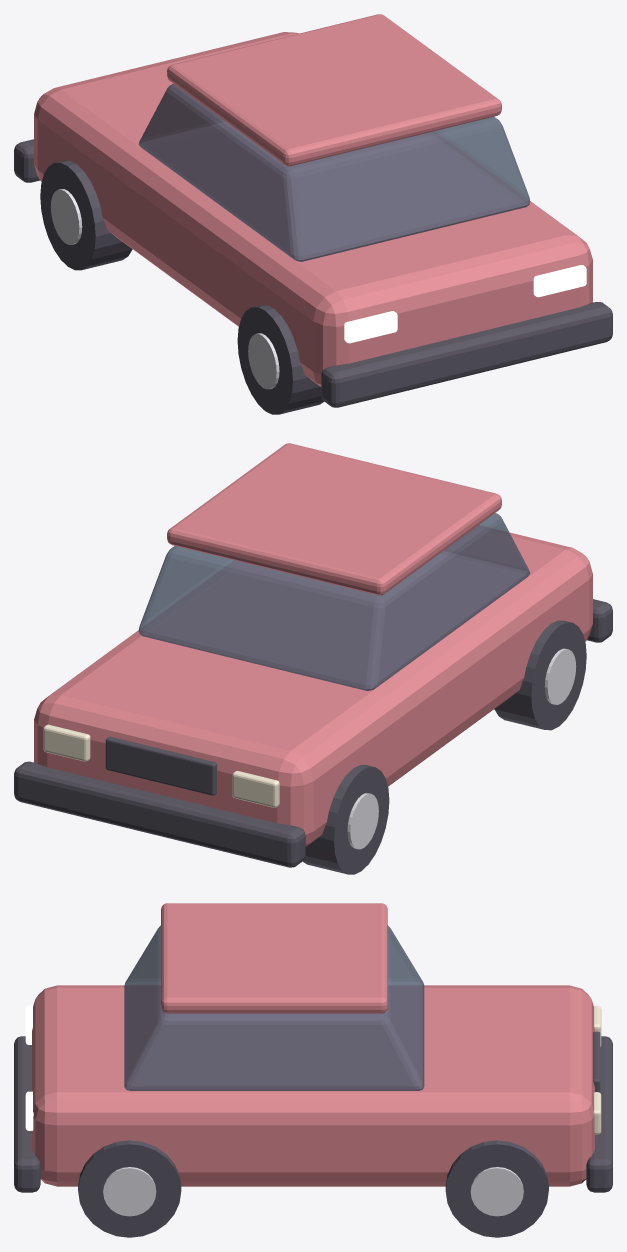
Rendered from Car.fbx.
3 views of the same model, one above another, from view 1: azimuth 30°, elevation 25°; view 2: azimuth 150°, elevation 25°; view 3: azimuth 270°, elevation 25° (orthographic). The views are drawn at different scales.
Visible parts, largest first — view 1: Car_Body, Car_Glass, Car_Dark, Car_Metal, Car_NeonTail; view 2: Car_Body, Car_Glass, Car_Dark, Car_Metal, Car_NeonHead; view 3: Car_Body, Car_Glass, Car_Dark, Car_Metal, Car_NeonTail, Car_NeonHead.
Boxes of the visible parts, box(x1,y1,x2,y2) form: Car_Body: box(34, 14, 592, 386); Car_Glass: box(138, 84, 530, 261); Car_Dark: box(14, 139, 612, 414); Car_Metal: box(50, 189, 279, 389); Car_NeonTail: box(344, 265, 586, 343); Car_Body: box(34, 443, 592, 846); Car_Glass: box(138, 513, 530, 690); Car_Dark: box(14, 599, 612, 874); Car_Metal: box(347, 648, 576, 849); Car_NeonHead: box(43, 724, 279, 807); Car_Body: box(32, 903, 594, 1186); Car_Glass: box(124, 925, 424, 1090); Car_Dark: box(14, 1031, 612, 1237); Car_Metal: box(103, 1167, 523, 1216); Car_NeonTail: box(25, 1005, 33, 1130); Car_NeonHead: box(593, 1006, 601, 1134).
Size of the model in its own units: 4.12 by 3.11 by 7.66.
